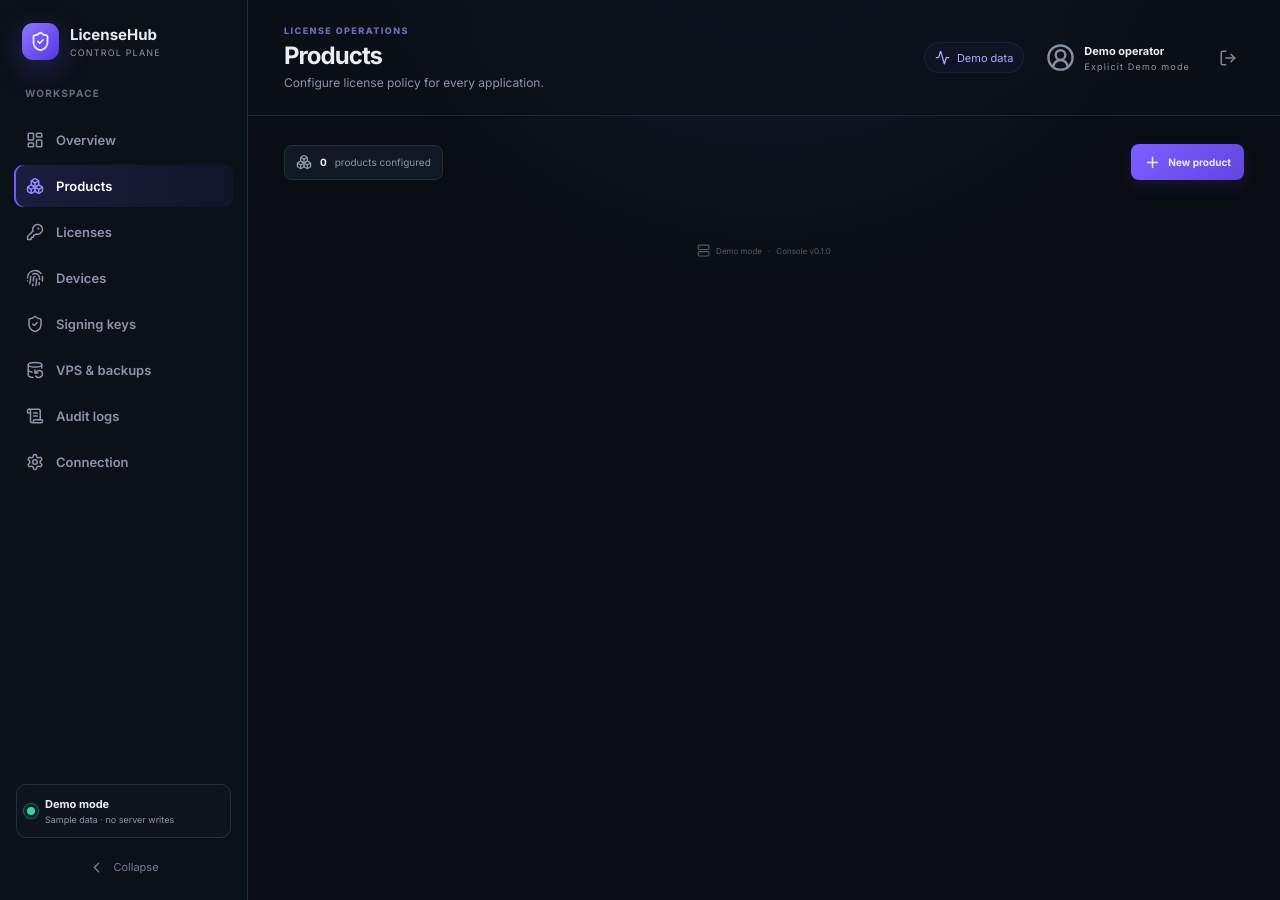
it: LicenseHub Console › creates a one-device product with a 72-hour lease
Click the button "New product" at point(1188, 162), box [1131,144,1244,180]
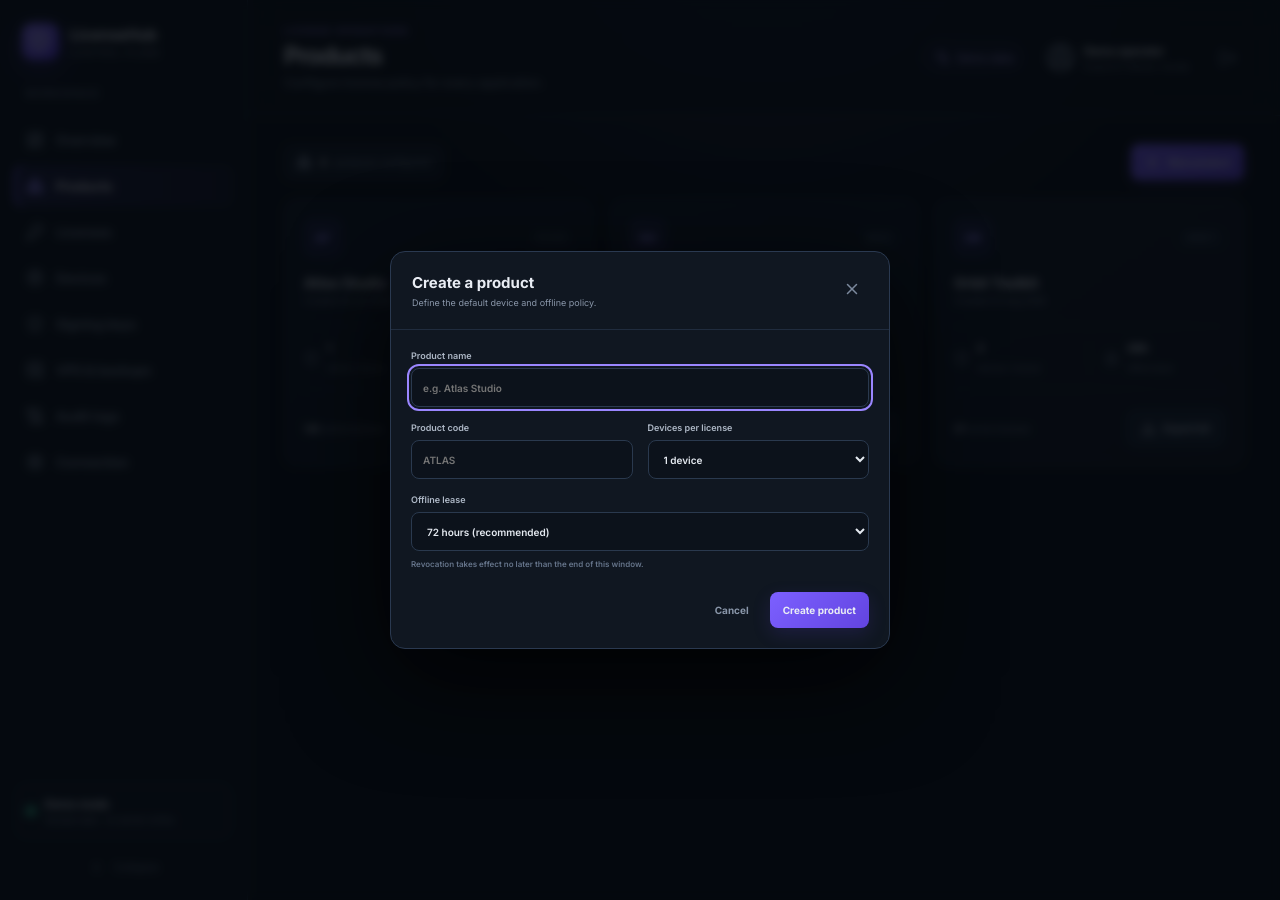
Type "Sentinel App" into the field labelled "Product name" at point(640, 388), box [411,368,869,407]
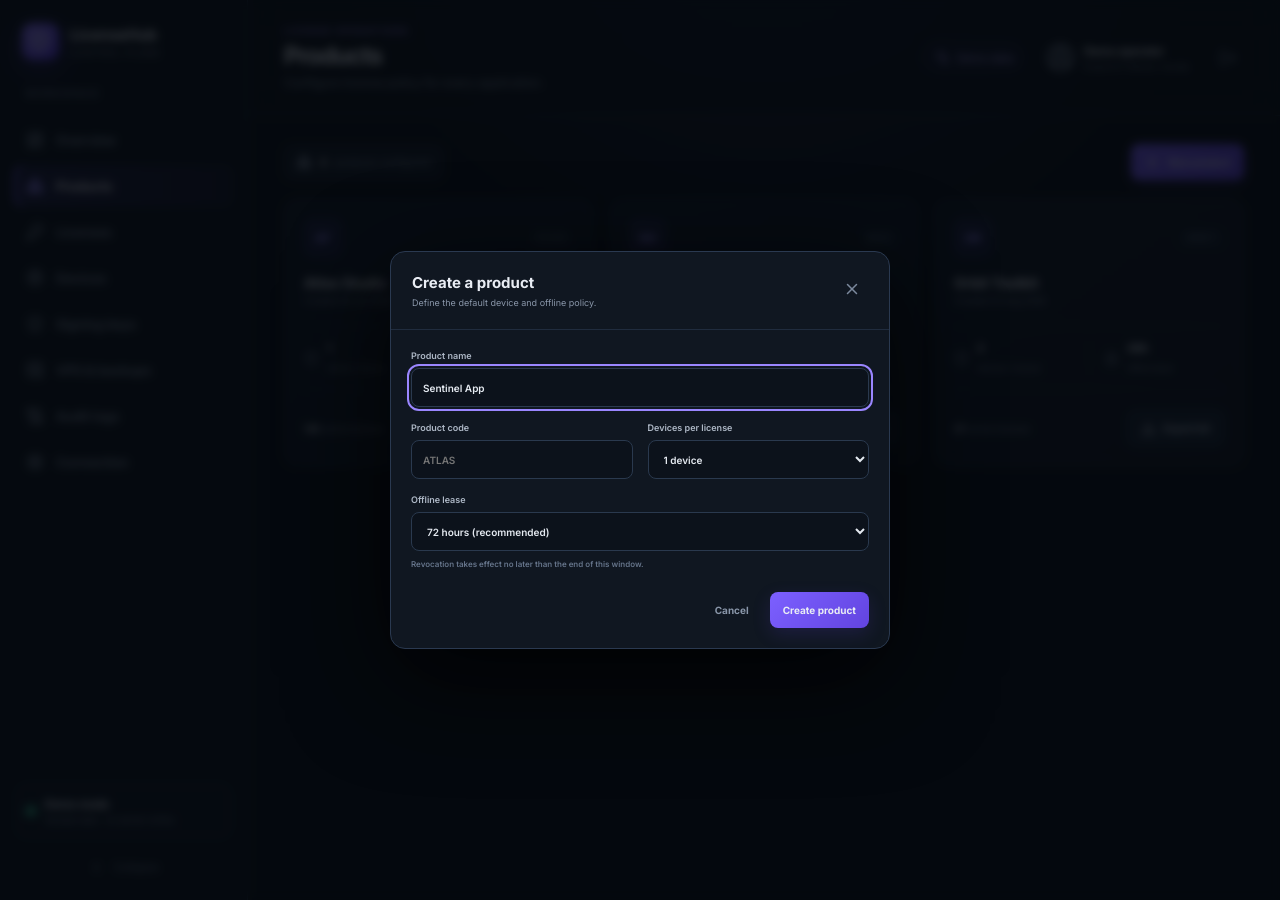
Type "SENT" into the field labelled "Product code" at point(522, 460), box [411,440,632,479]
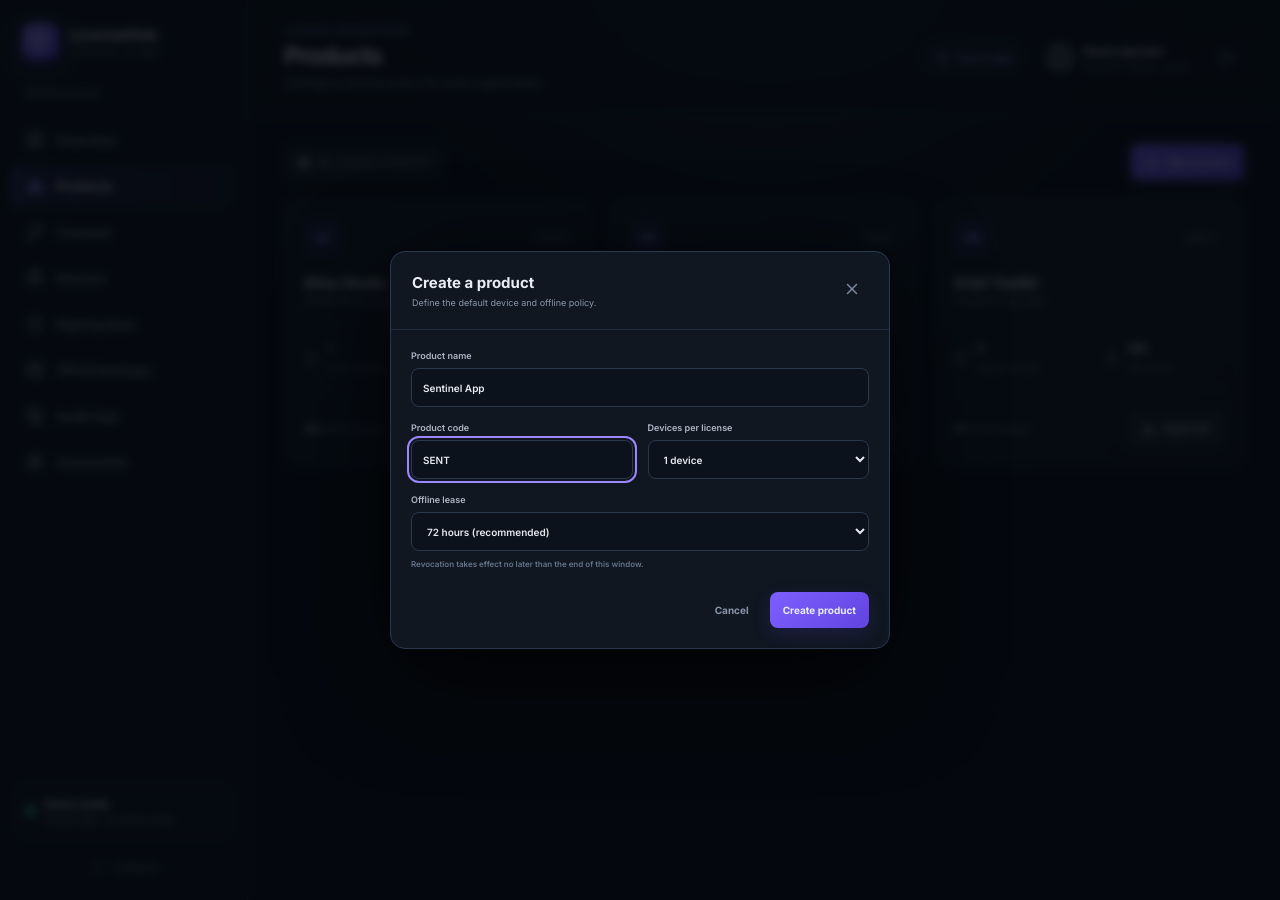
Click the button "Create product" at point(819, 610), box [770,592,869,628]
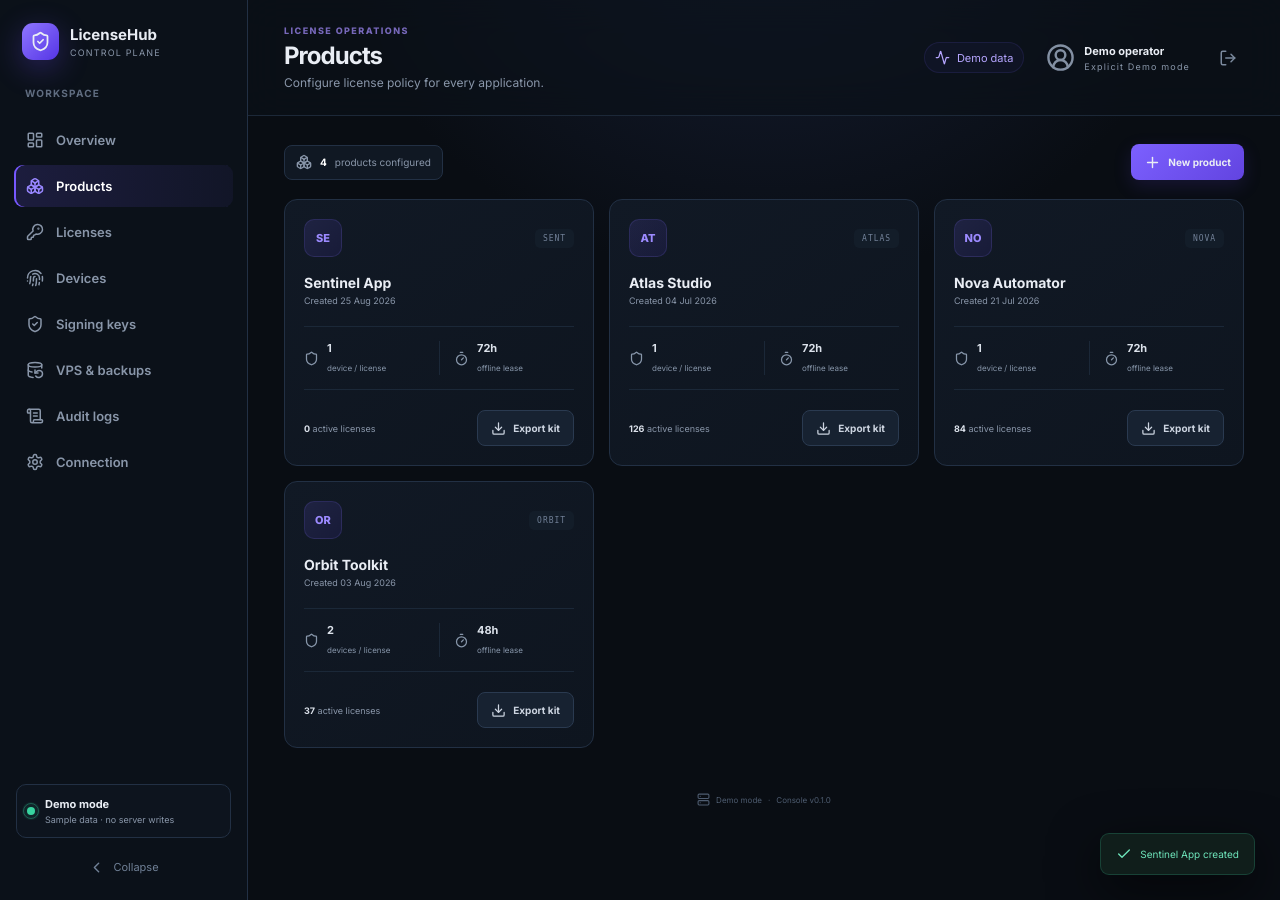
Check: the element "Sentinel App" is shown, box [284,199,594,466]
Check: the text "72h" below "25 Aug 2026" is shown, box [477,341,497,355]
Check: the text "1" below "25 Aug 2026" is shown, box [327,341,332,355]
